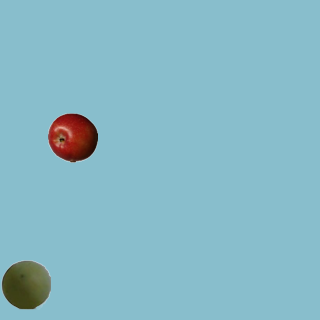Apple Braeburn: (47, 112, 97, 162)
Grape White 4: (0, 259, 50, 309)
